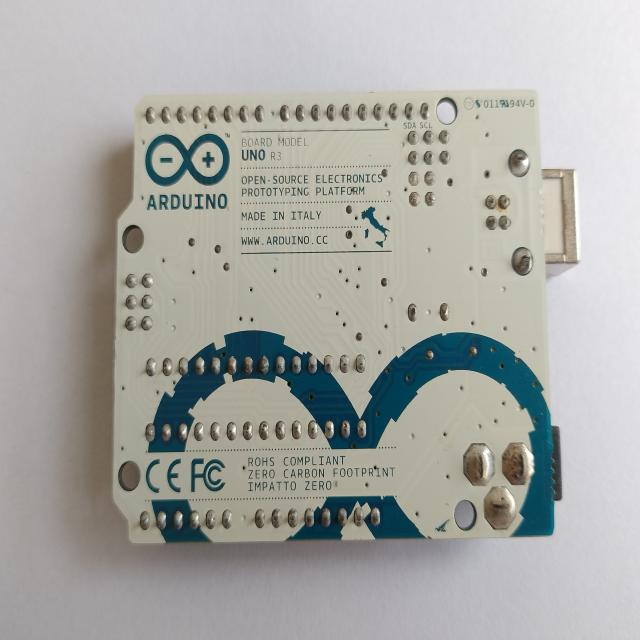arduino: (100, 66, 576, 552)
